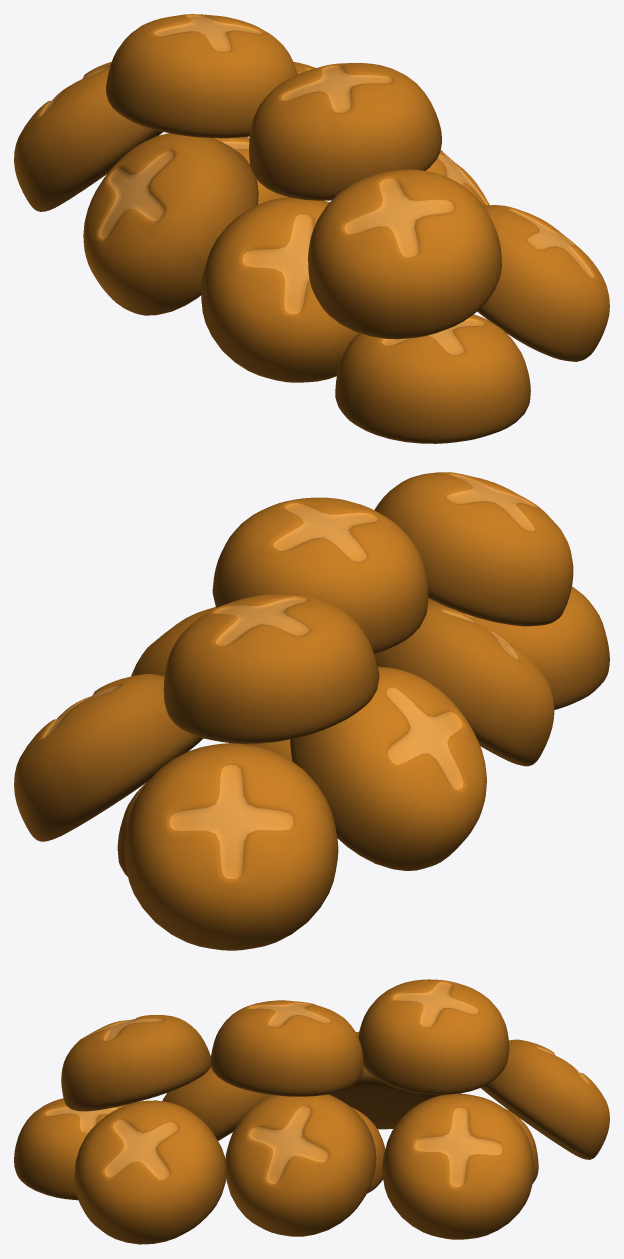
File: Full_Bread.fbx
3 views of the same model, one above another, from view 1: azimuth 30°, elevation 25°; view 2: azimuth 150°, elevation 25°; view 3: azimuth 270°, elevation 25° (orthographic). The views are drawn at different scales.
Visible parts, largest first — view 1: Full_Bread; view 2: Full_Bread; view 3: Full_Bread.
Part boxes in pixels (bbox=[...]): Full_Bread: bbox=[14, 14, 609, 443]; Full_Bread: bbox=[14, 472, 609, 950]; Full_Bread: bbox=[14, 979, 609, 1244].
Bounding box in the file's own units: 24.98 × 15.42 × 46.23.
